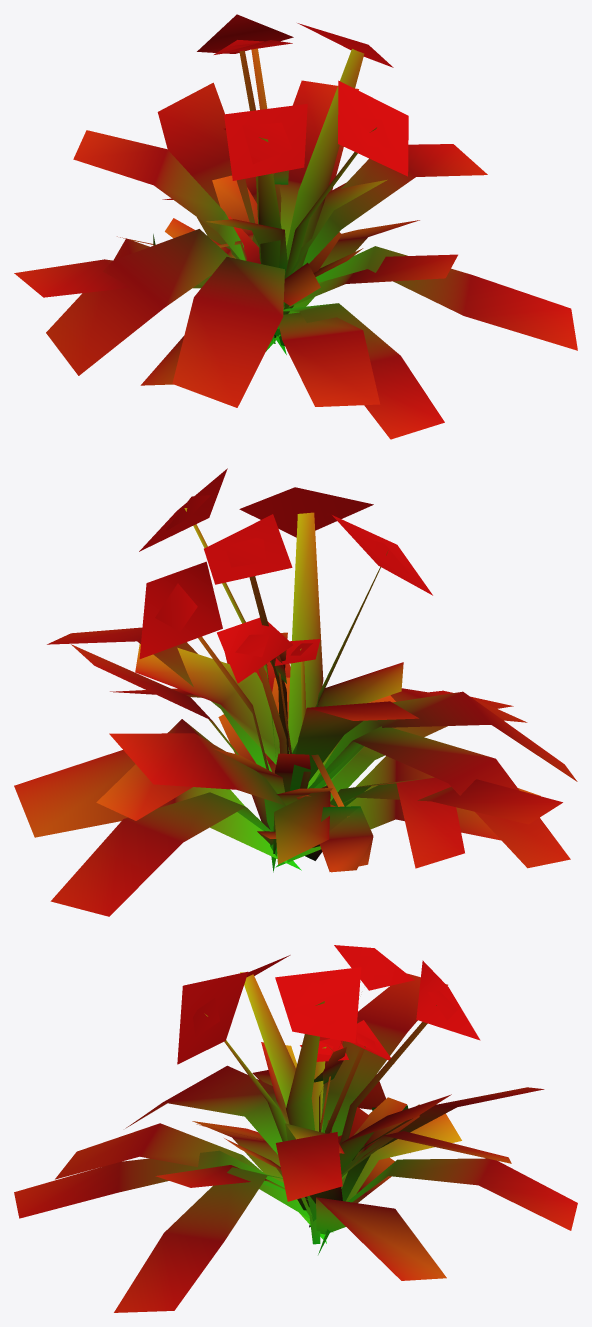
File: Cape Weed_LOD3_Var1_tjmhfcyia.fbx
The picture shows the model from 3 angles, top to bottom: view 1: azimuth 30°, elevation 25°; view 2: azimuth 150°, elevation 25°; view 3: azimuth 270°, elevation 25°; orthographic projection. The views are drawn at different scales.
Parts seen in each view (by area): view 1: _b260_Var1_LOD3; view 2: _b260_Var1_LOD3; view 3: _b260_Var1_LOD3.
Part boxes in pixels (x1,y1,x2,y2): _b260_Var1_LOD3: (14, 14, 577, 439); _b260_Var1_LOD3: (14, 468, 577, 916); _b260_Var1_LOD3: (14, 945, 577, 1312).
Size of the model in its own units: 44.34 by 28.97 by 48.05.
